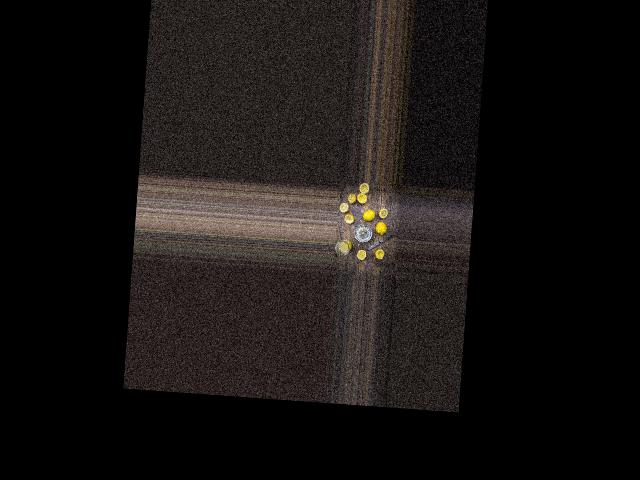lemon: (373, 217, 387, 235)
